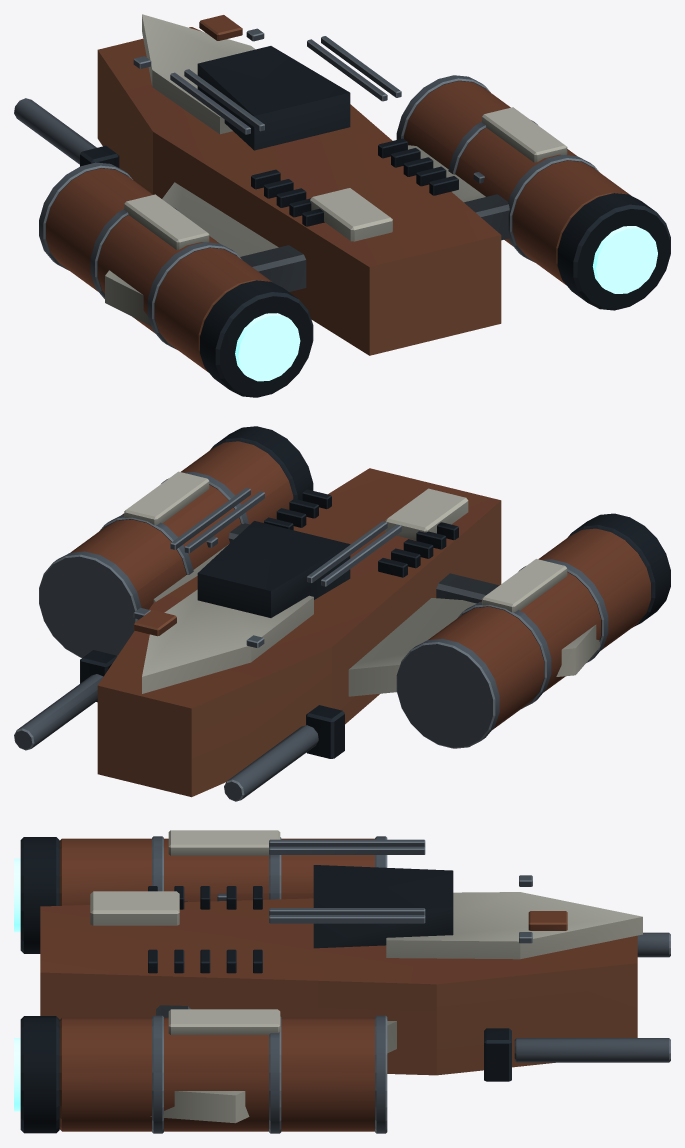
The model's file is hero-scrapper.glb.
The picture shows the model from 3 angles, top to bottom: view 1: azimuth 30°, elevation 25°; view 2: azimuth 150°, elevation 25°; view 3: azimuth 270°, elevation 25°; orthographic projection. The views are drawn at different scales.
Parts seen in each view (by area): view 1: hero_scrapper; view 2: hero_scrapper; view 3: hero_scrapper.
Part boxes in pixels (bbox=[...]): hero_scrapper: bbox=[14, 14, 670, 397]; hero_scrapper: bbox=[14, 426, 670, 801]; hero_scrapper: bbox=[14, 830, 670, 1133].
Bounding box in the file's own units: 1 × 0.3157 × 1.18.
